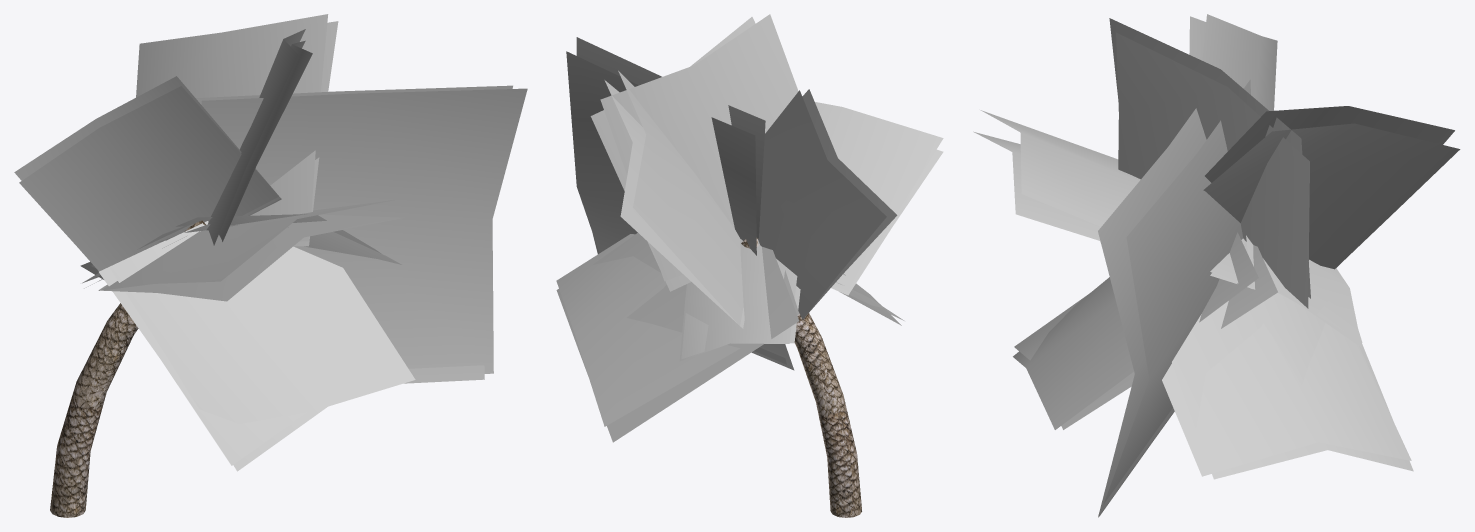
Rendered from palm_tree_10_LOD0.FBX.
3 renders of one model, left to right at view 1: azimuth 30°, elevation 25°; view 2: azimuth 150°, elevation 25°; view 3: azimuth 270°, elevation 25°, orthographic. The views are drawn at different scales.
Parts seen in each view (by area): view 1: leaves, bark; view 2: leaves, bark; view 3: leaves.
Part boxes in pixels (left/top/right/bottom): leaves: left=14, top=14, right=527, bottom=471; bark: left=50, top=220, right=205, bottom=517; leaves: left=556, top=14, right=943, bottom=442; bark: left=741, top=237, right=861, bottom=517; leaves: left=973, top=14, right=1460, bottom=517.
Bounding box in the file's own units: 9.09 × 8 × 9.36.
